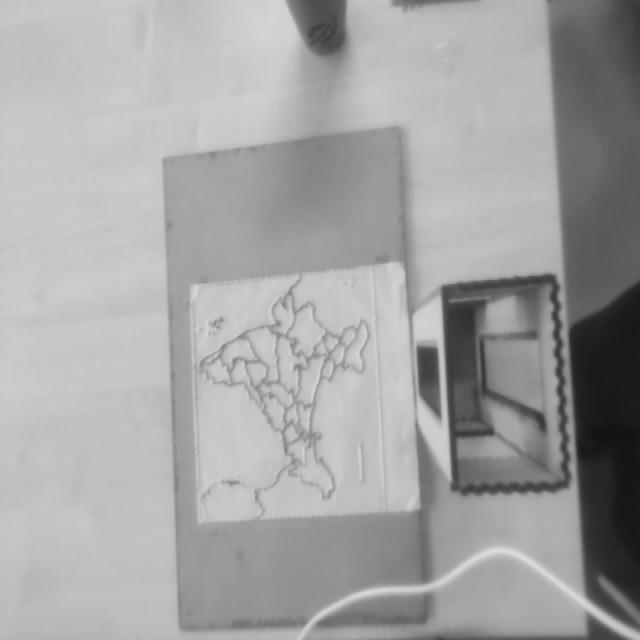map: (185, 266, 386, 524)
